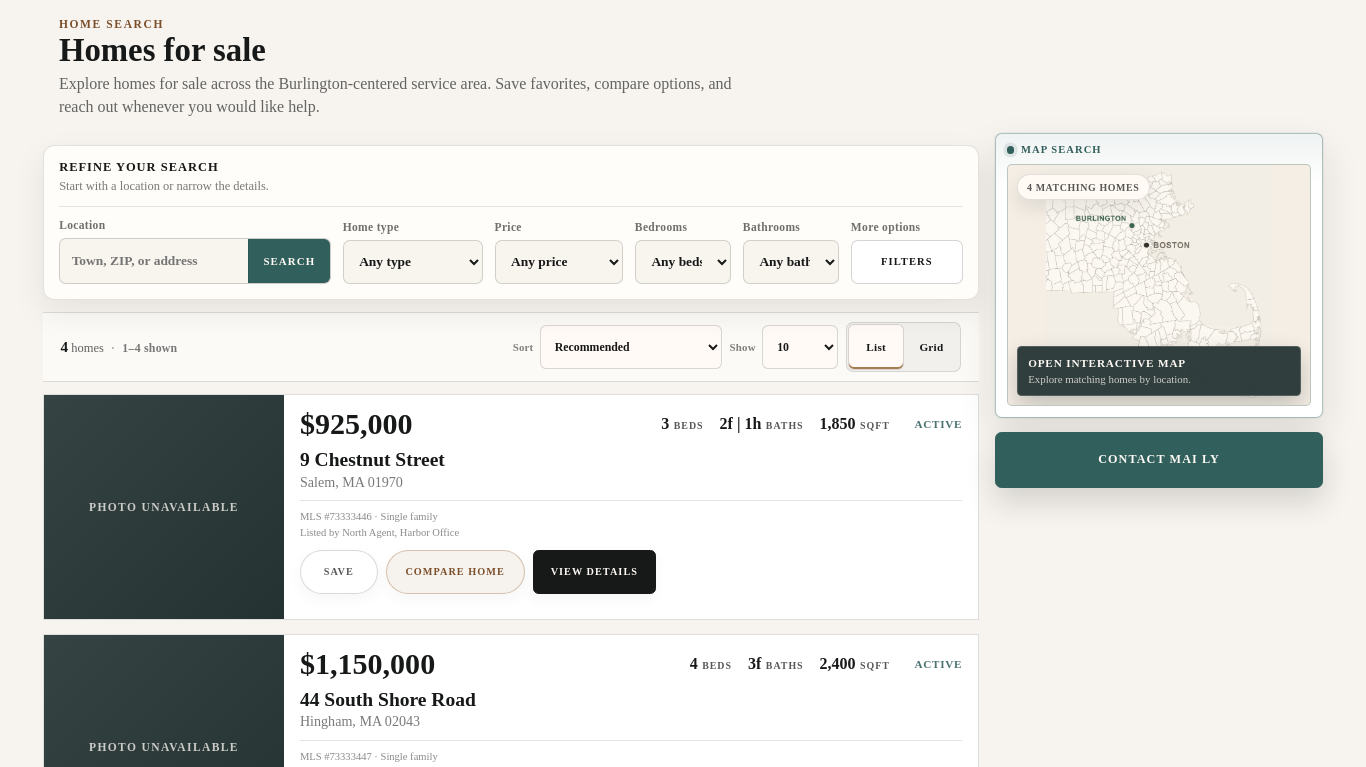
it: PropertiesSearch › summarizes every active quick filter and resets the full search in one action
Select "Single family" in the dropdown named "property type" at (413, 262), box [343, 240, 482, 284]
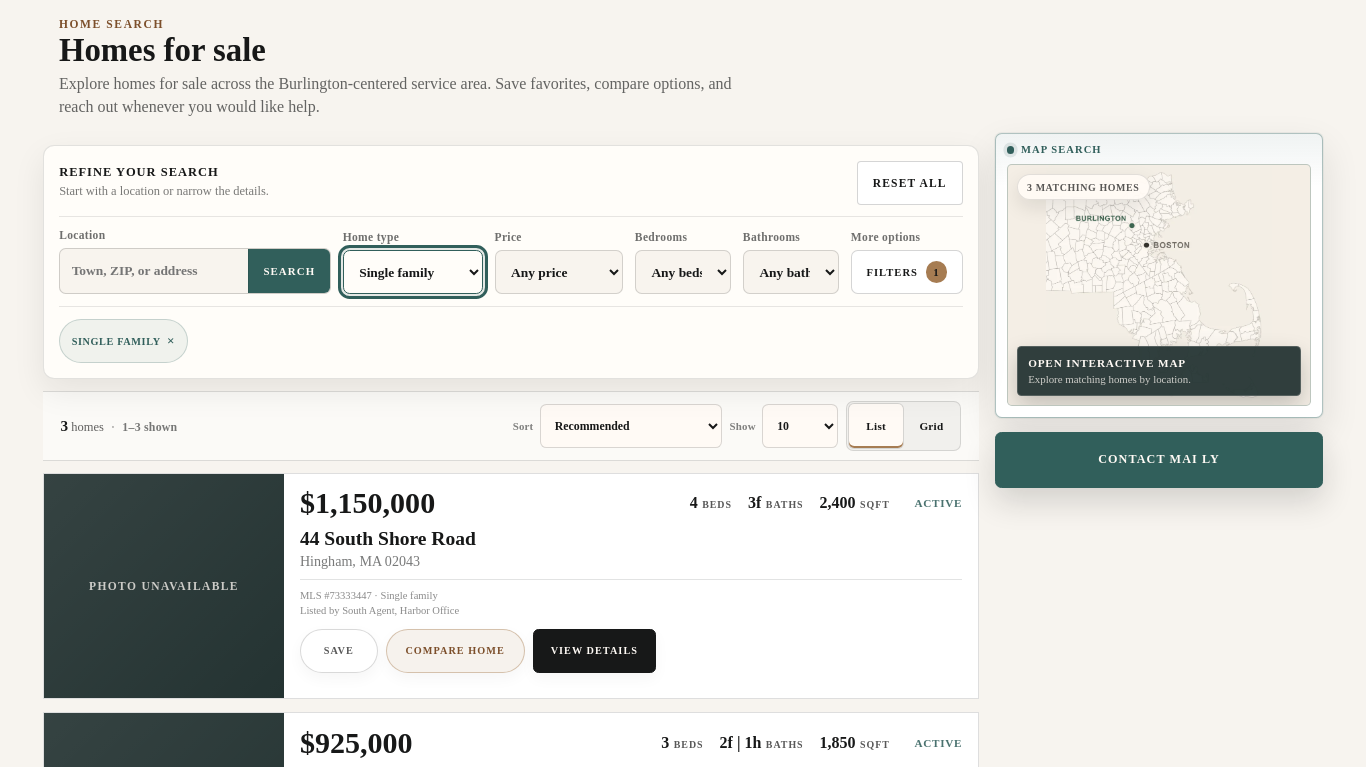
Select "$750K-$1.5M" in the dropdown named "price range shortcut" at (559, 272), box [494, 250, 623, 294]
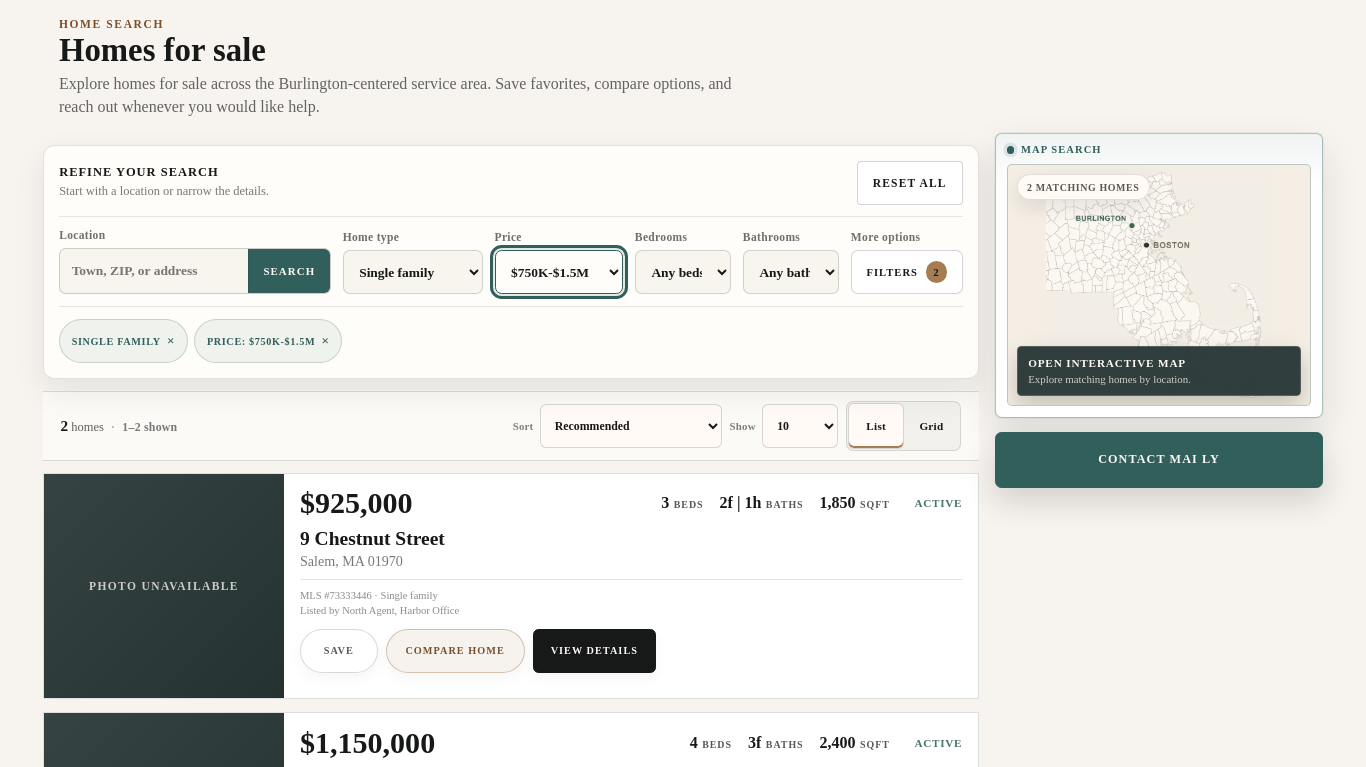
Select "3+ beds" in the dropdown named "minimum beds" at (683, 272), box [635, 250, 731, 294]
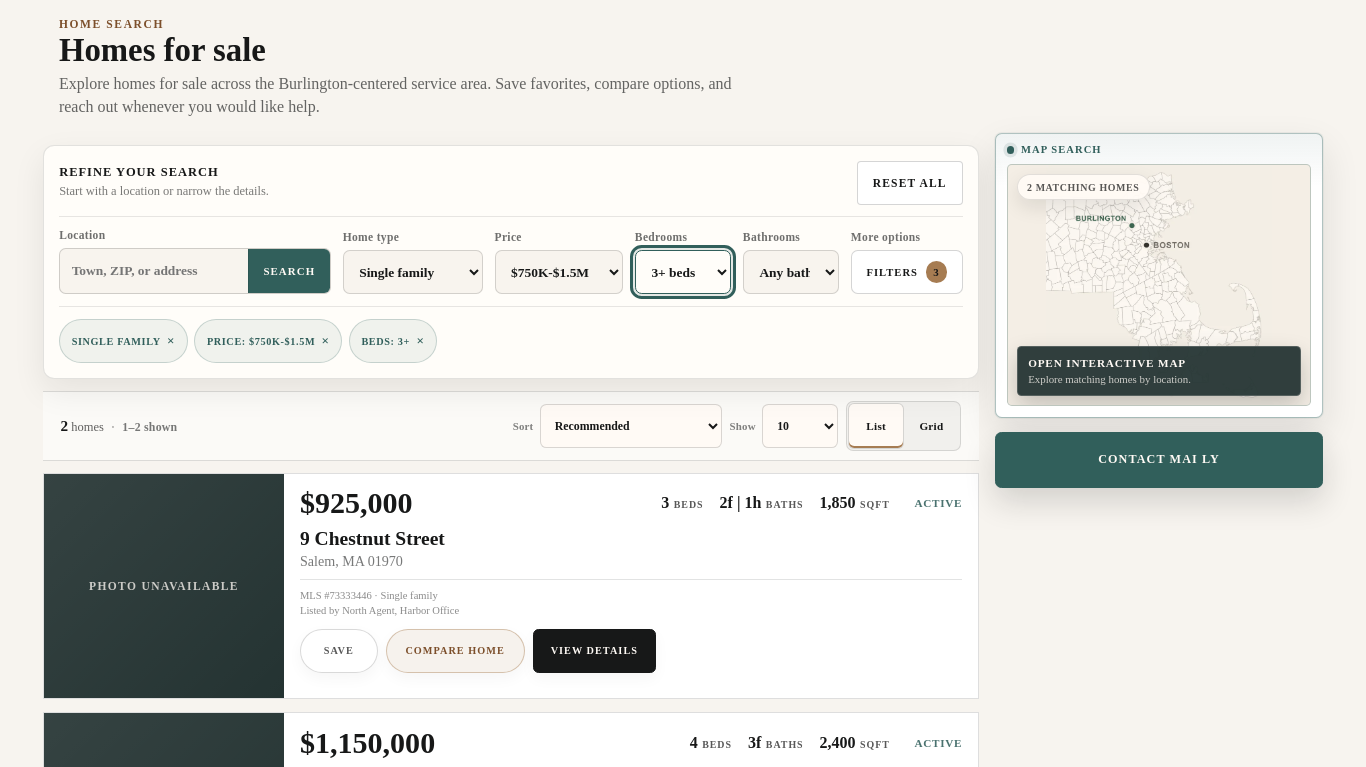
Select "2+ baths" in the dropdown named "minimum baths" at (791, 272), box [743, 250, 839, 294]
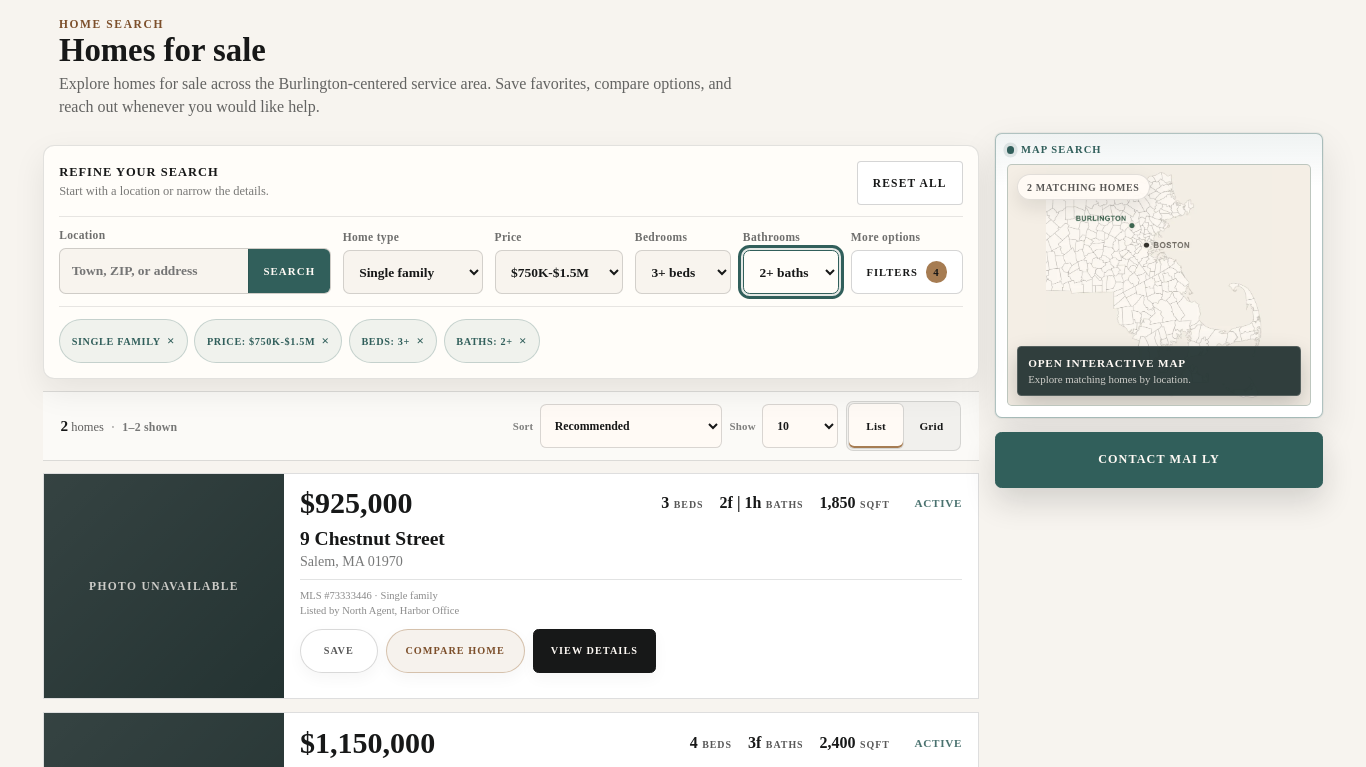
Check: the button with aria-label "remove price: $750k-$1.5m" is shown, box [194, 318, 342, 362]
Check: the button with aria-label "remove beds: 3+" is shown, box [349, 318, 437, 362]
Check: the button with aria-label "remove baths: 2+" is shown, box [444, 318, 540, 362]
Click the button "Reset all" at (910, 183), box [857, 161, 963, 205]
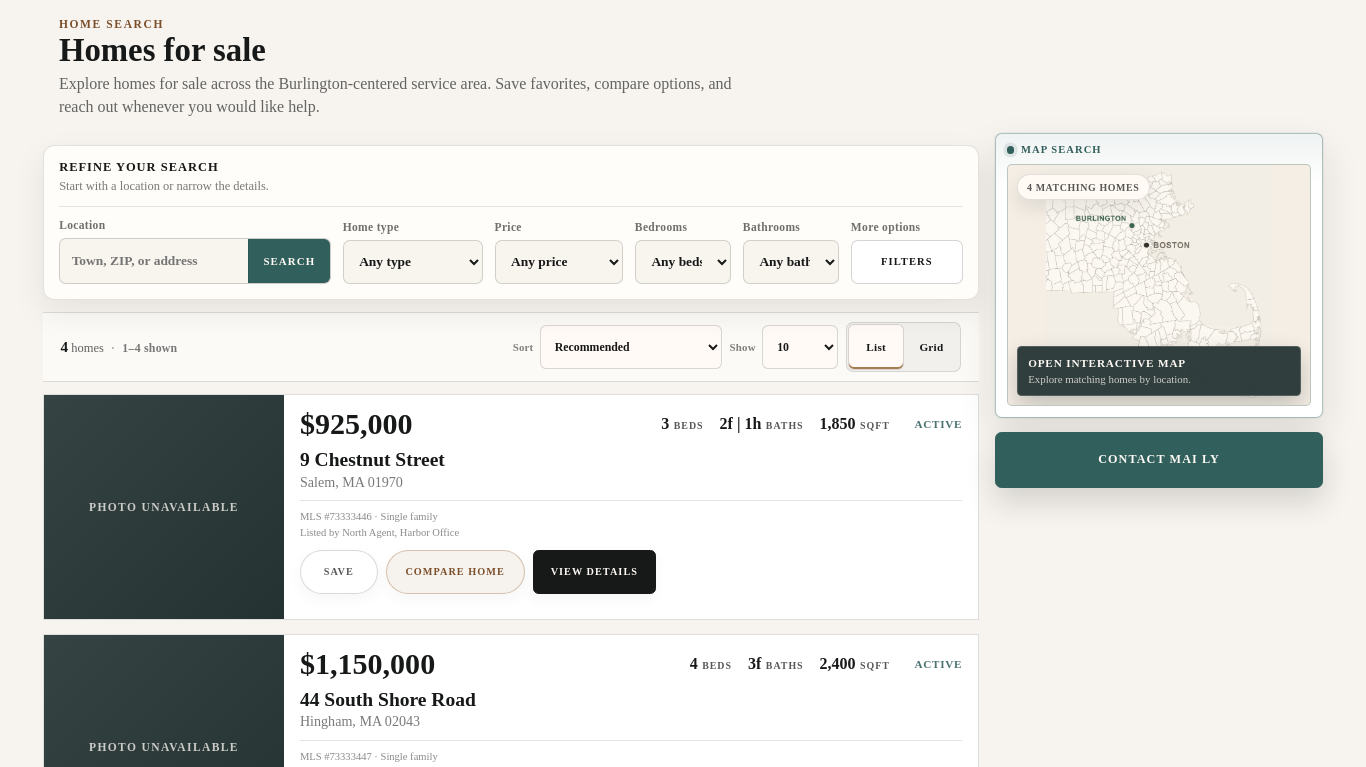
Check: the button "Reset all" is gone
